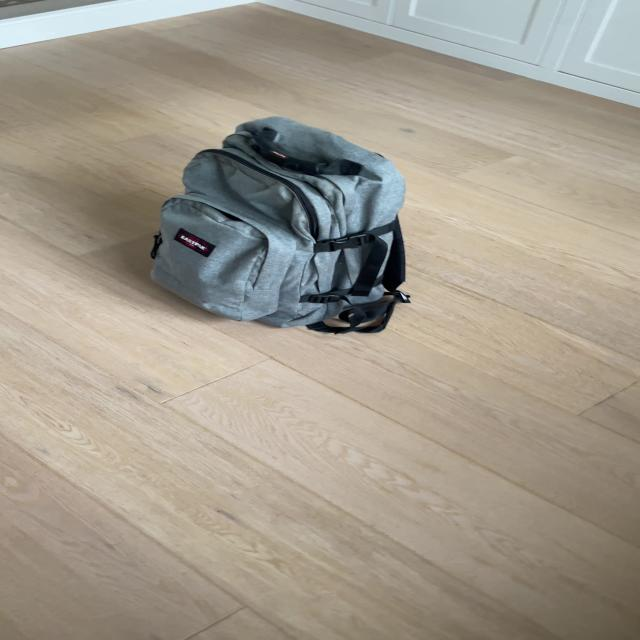backpack: (137, 106, 420, 338)
